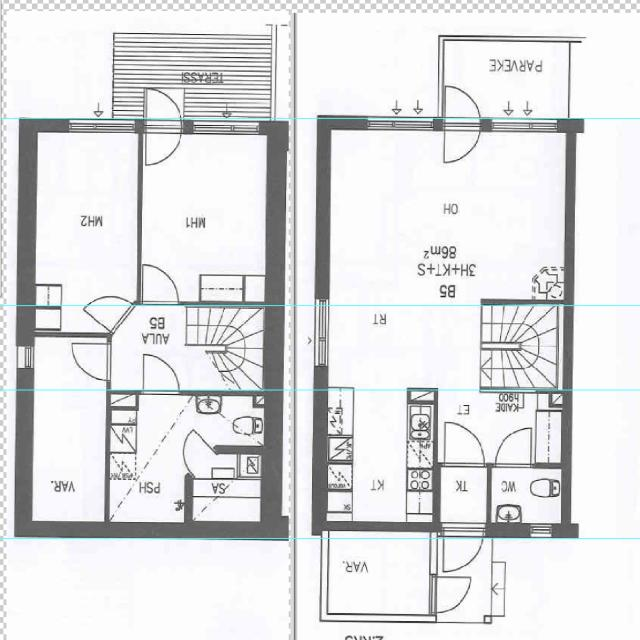door: (489, 440, 560, 530), (439, 80, 483, 168), (140, 83, 185, 169), (438, 418, 491, 468), (432, 529, 485, 577), (67, 334, 113, 386), (137, 349, 183, 396), (136, 258, 182, 305), (494, 424, 536, 470), (431, 573, 473, 616), (182, 426, 215, 458)
window: (310, 292, 334, 373), (361, 112, 436, 135), (488, 115, 560, 137), (64, 116, 141, 136), (188, 119, 262, 138), (318, 533, 333, 607), (15, 341, 38, 372), (527, 524, 555, 539)
zone: (338, 130, 570, 303), (140, 130, 269, 302), (30, 126, 141, 304), (324, 387, 433, 522), (322, 304, 476, 388), (28, 381, 108, 524), (109, 391, 189, 525), (325, 534, 433, 619), (188, 447, 264, 526), (488, 468, 566, 528), (190, 392, 267, 450), (236, 451, 264, 493)
